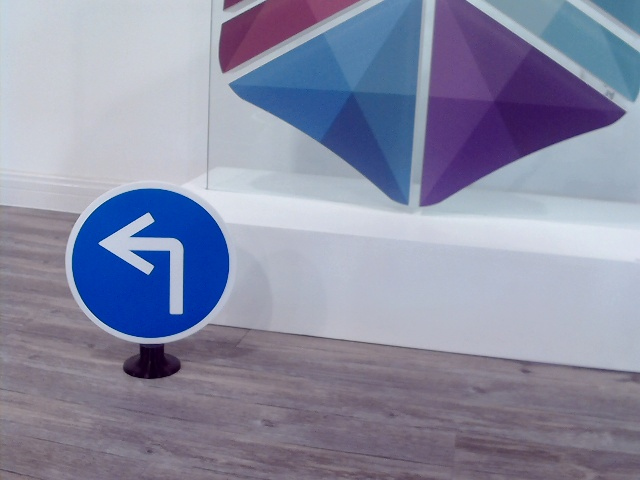turn_left: (100, 206, 195, 320)
